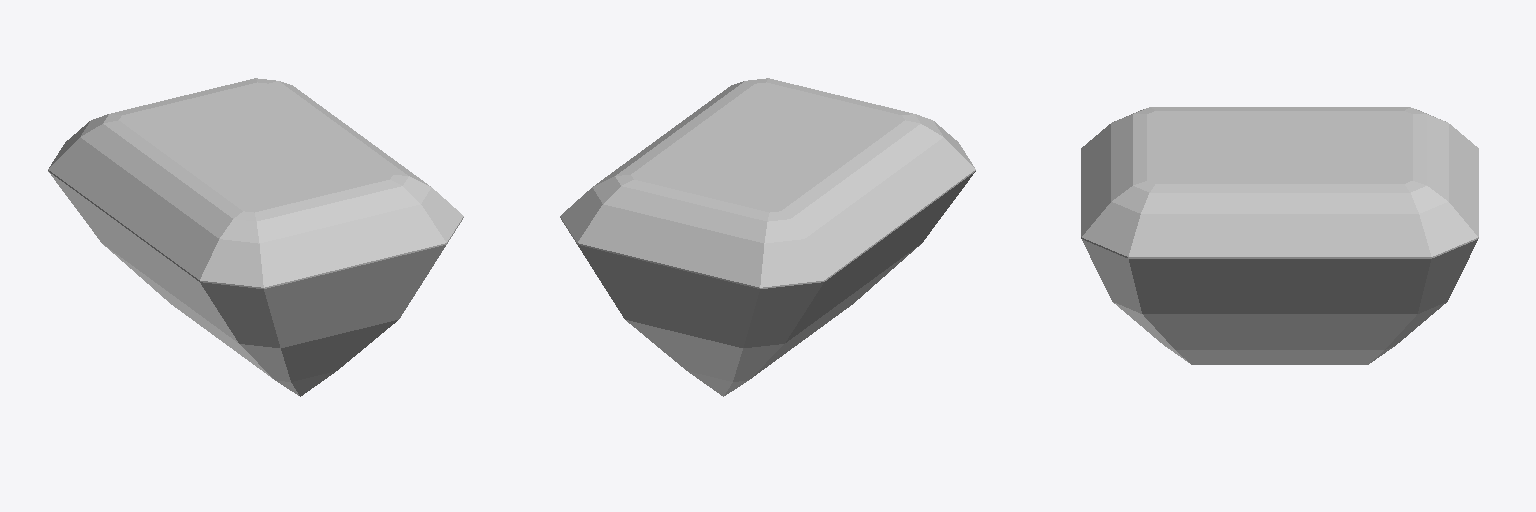
The model's file is Diamond_Emerald_Cut.obj.
3 views of the same model, side by side, from view 1: azimuth 30°, elevation 25°; view 2: azimuth 150°, elevation 25°; view 3: azimuth 270°, elevation 25° (orthographic).
Parts seen in each view (by area): view 1: Diamond_Emerald_Cut; view 2: Diamond_Emerald_Cut; view 3: Diamond_Emerald_Cut.
Part boxes in pixels (x1,y1,x2,y2): Diamond_Emerald_Cut: (48, 78, 463, 396); Diamond_Emerald_Cut: (560, 78, 975, 396); Diamond_Emerald_Cut: (1081, 107, 1478, 364).
Bounding box in the file's own units: 5 × 3.92 × 6.5.